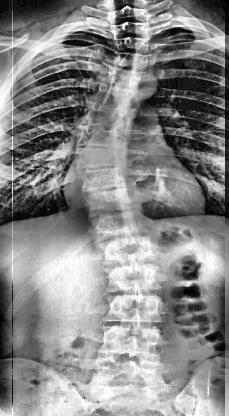Vertebrae: (96, 328, 166, 364), (104, 293, 170, 325), (83, 219, 148, 250), (76, 190, 140, 220), (71, 121, 137, 150), (99, 240, 161, 270), (95, 80, 155, 110), (70, 166, 126, 196), (85, 100, 143, 128), (107, 270, 167, 297), (68, 144, 130, 170), (99, 67, 155, 89), (106, 20, 154, 40), (104, 52, 156, 70), (108, 34, 154, 54)
